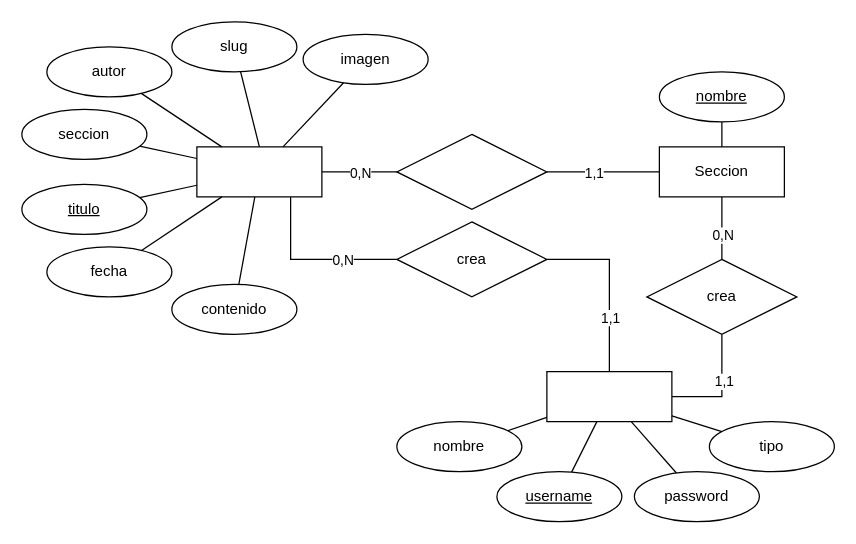
This 856x544 diagram has some shape labels left out. Here are the shapes that lost their labels. From the top down, the box of each, then its label:
(196, 146, 322, 197): Articulo
(396, 133, 547, 209): pertenece
(546, 370, 672, 422): Usuario
